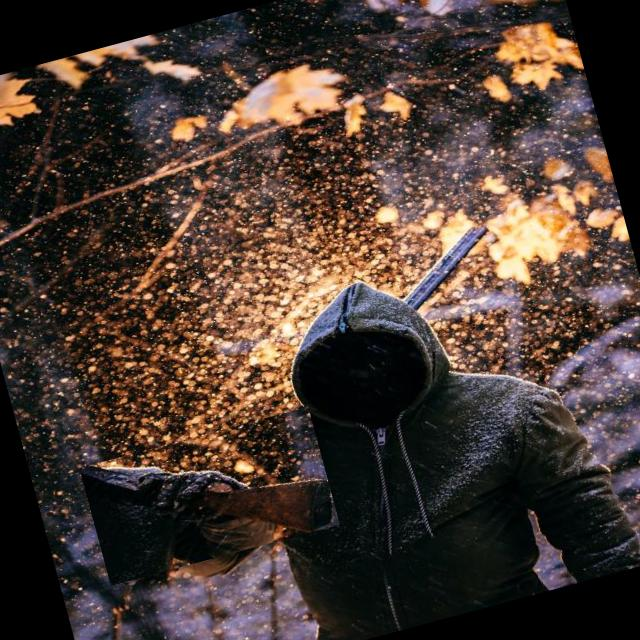Gun: (80, 465, 331, 532), (403, 226, 489, 310)
